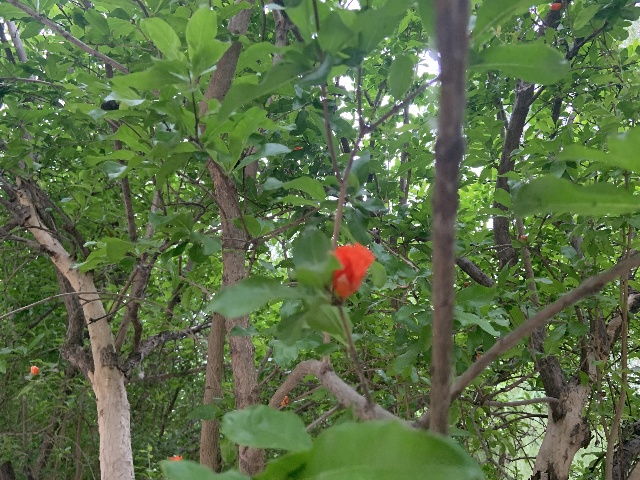bud: (549, 3, 561, 10), (30, 365, 39, 374), (463, 281, 469, 287), (520, 235, 526, 240)
flower: (331, 241, 376, 298), (169, 455, 182, 460)
